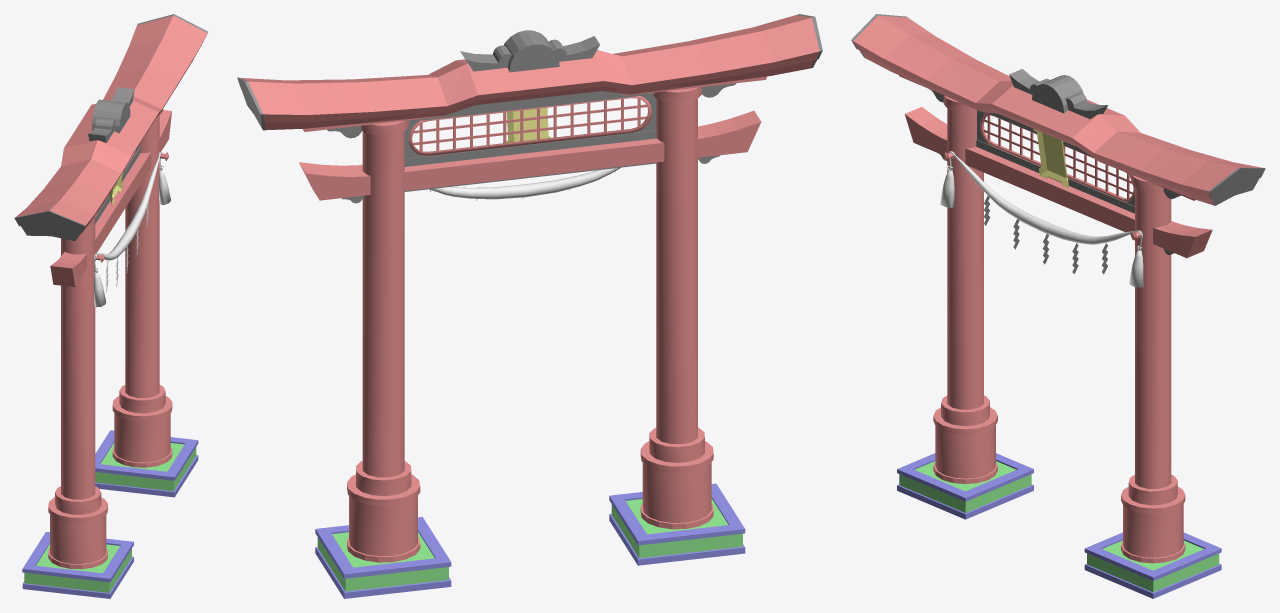
The model's file is SM_ENV_KNVLLG03_AreaC_ToriiA.gltf.
3 views of the same model, side by side, from view 1: azimuth 30°, elevation 25°; view 2: azimuth 150°, elevation 25°; view 3: azimuth 270°, elevation 25° (orthographic). The views are drawn at different scales.
Visible parts, largest first — view 1: SM_ENV_KNVLLG03_AreaC_ToriiA; view 2: SM_ENV_KNVLLG03_AreaC_ToriiA; view 3: SM_ENV_KNVLLG03_AreaC_ToriiA.
Part boxes in pixels (x1,y1,x2,y2): SM_ENV_KNVLLG03_AreaC_ToriiA: (14,14,208,598); SM_ENV_KNVLLG03_AreaC_ToriiA: (237,14,822,598); SM_ENV_KNVLLG03_AreaC_ToriiA: (851,14,1265,598).
Size of the model in its own units: 10.95 by 13.11 by 10.95.
